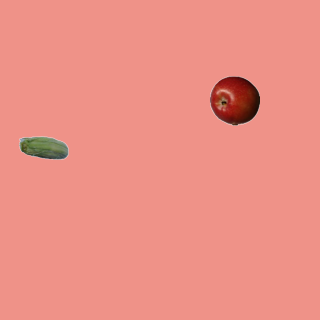Apple Braeburn: (209, 75, 259, 125)
Corn Husk: (18, 124, 68, 174)
